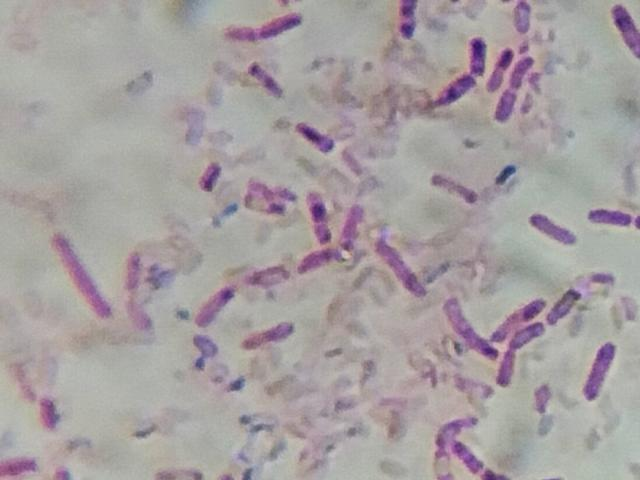E. coli: (53, 226, 114, 310), (373, 233, 435, 304), (442, 296, 498, 360), (445, 436, 511, 480), (584, 335, 623, 407), (501, 320, 545, 383), (226, 12, 302, 46), (431, 170, 489, 210), (588, 200, 640, 237), (193, 280, 234, 326), (609, 0, 640, 58), (248, 176, 294, 214), (296, 240, 346, 274), (495, 297, 553, 326), (532, 210, 575, 247), (245, 320, 296, 351), (545, 290, 588, 326), (241, 260, 293, 288), (311, 183, 336, 240), (249, 56, 283, 97), (0, 445, 42, 477), (433, 73, 476, 104), (503, 47, 533, 91), (296, 119, 331, 154), (511, 0, 540, 41), (345, 195, 365, 251), (196, 159, 223, 200), (398, 0, 421, 46), (489, 43, 509, 91), (36, 397, 64, 431), (495, 85, 520, 123), (468, 33, 490, 67)
